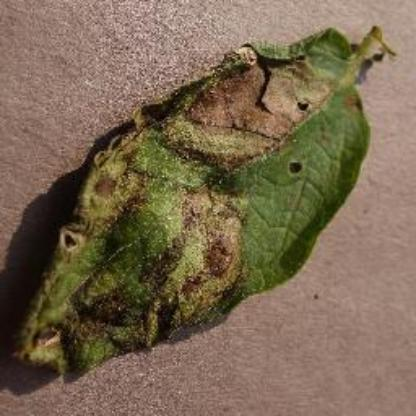Late-Blight: (18, 18, 392, 380)
